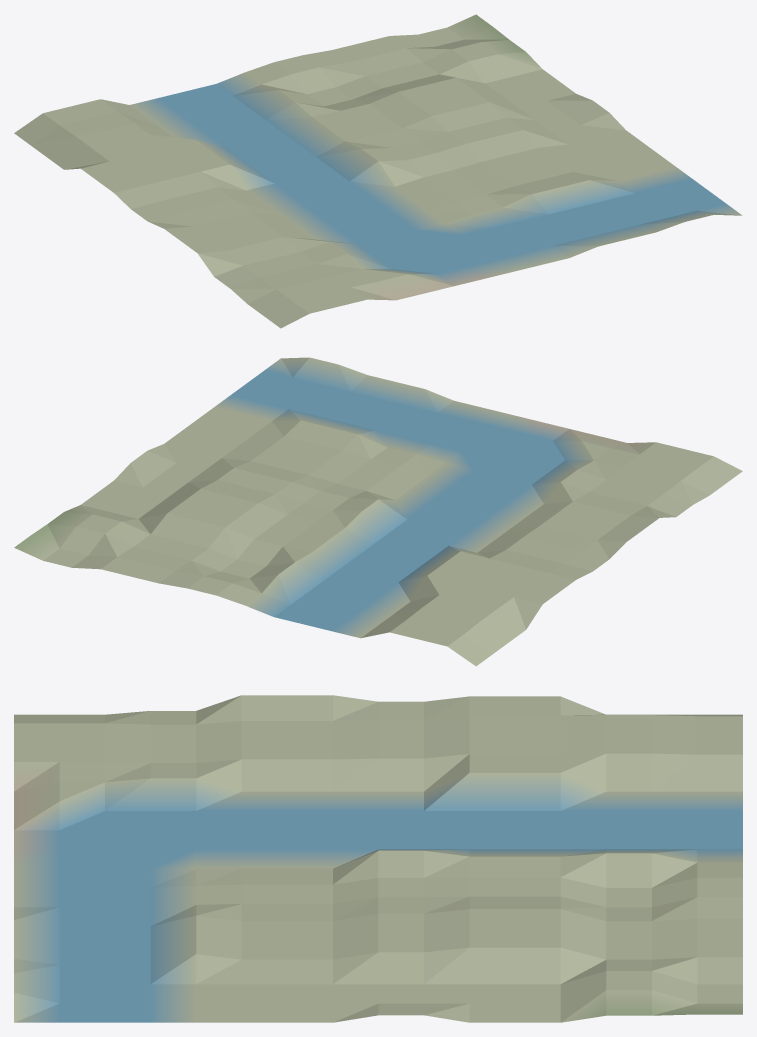
The picture shows the model from 3 angles, top to bottom: view 1: azimuth 30°, elevation 25°; view 2: azimuth 150°, elevation 25°; view 3: azimuth 270°, elevation 25°; orthographic projection. The views are drawn at different scales.
Size of the model in its own units: 32 by 0.9429 by 32.
